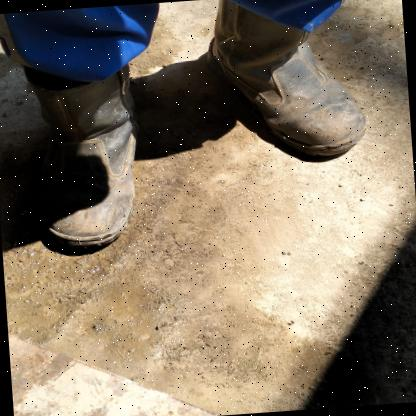bota: (8, 55, 152, 255), (210, 0, 376, 164)
